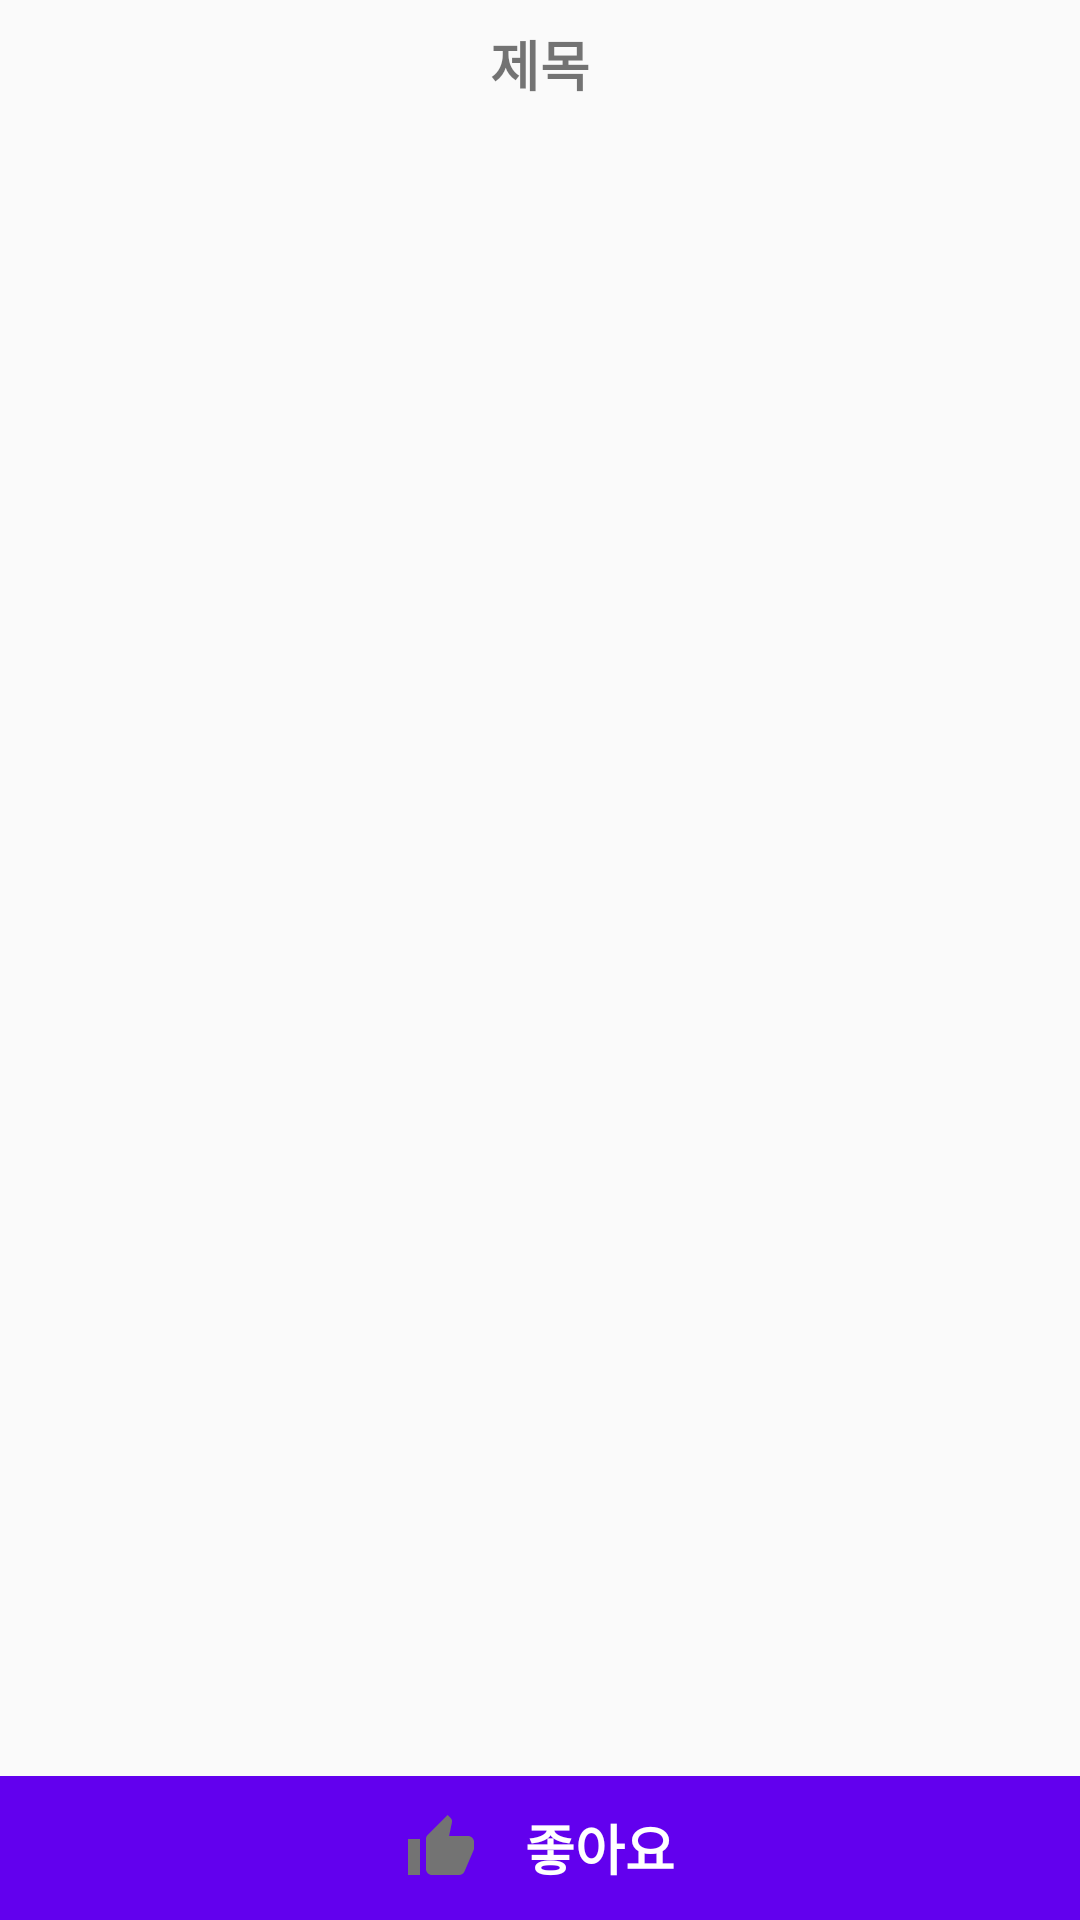

Named icons in this screenshot (1080 x 1920) and their centers, [x,y]:
thumb up: [441,1845]
